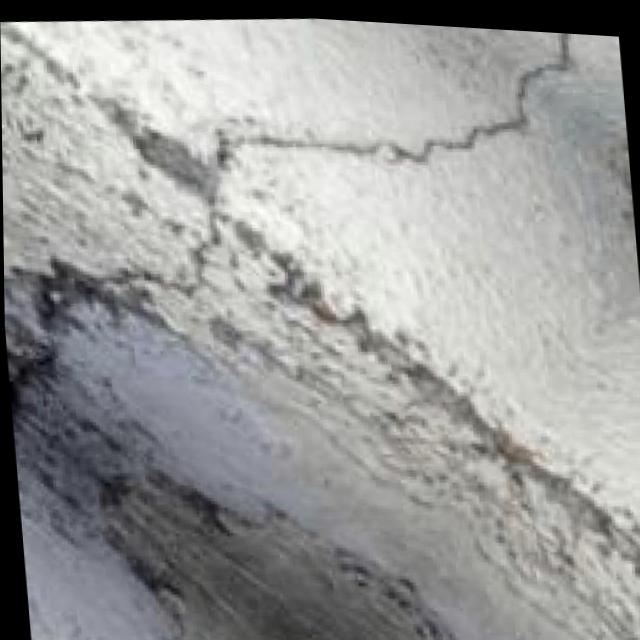Crack: (0, 0, 610, 430)
